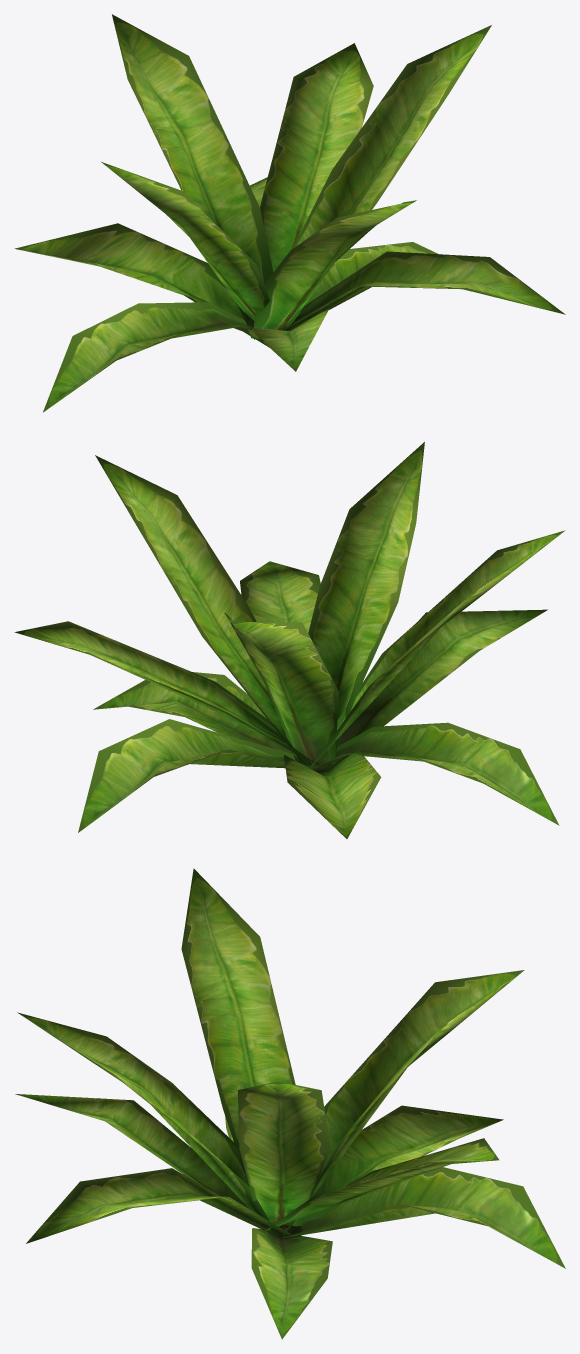
The model's file is Asplenium antiquum Makino_m.FBX.
The picture shows the model from 3 angles, top to bottom: view 1: azimuth 30°, elevation 25°; view 2: azimuth 150°, elevation 25°; view 3: azimuth 270°, elevation 25°; orthographic projection.
Parts seen in each view (by area): view 1: Plane562; view 2: Plane562; view 3: Plane562.
Part boxes in pixels (bbox=[...]): Plane562: bbox=[14, 14, 565, 412]; Plane562: bbox=[14, 442, 565, 838]; Plane562: bbox=[15, 868, 565, 1339].
Size of the model in its own units: 118 by 65.95 by 121.
